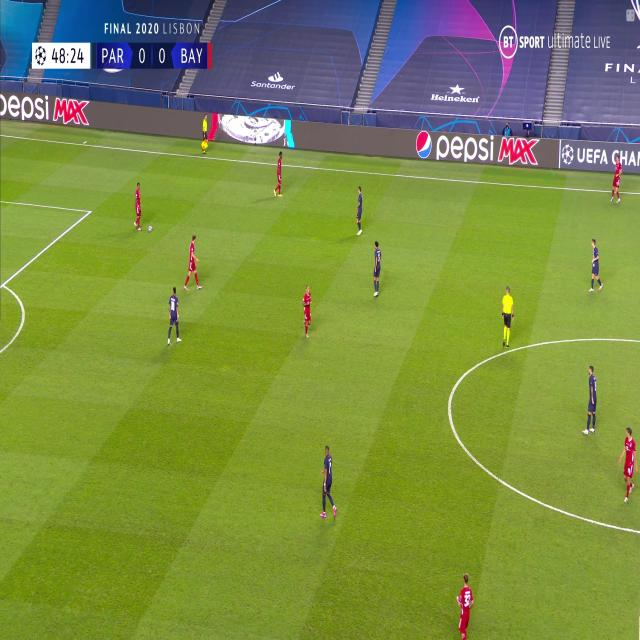ball: (147, 224, 153, 232)
player: (618, 424, 638, 503), (318, 442, 338, 520), (456, 572, 475, 640), (582, 363, 599, 436), (183, 234, 202, 292), (166, 284, 182, 346), (501, 283, 515, 350), (587, 236, 603, 293), (371, 238, 383, 298), (609, 154, 623, 205), (301, 282, 313, 339), (132, 181, 144, 231), (354, 183, 365, 236), (273, 151, 285, 198), (200, 113, 212, 154)
